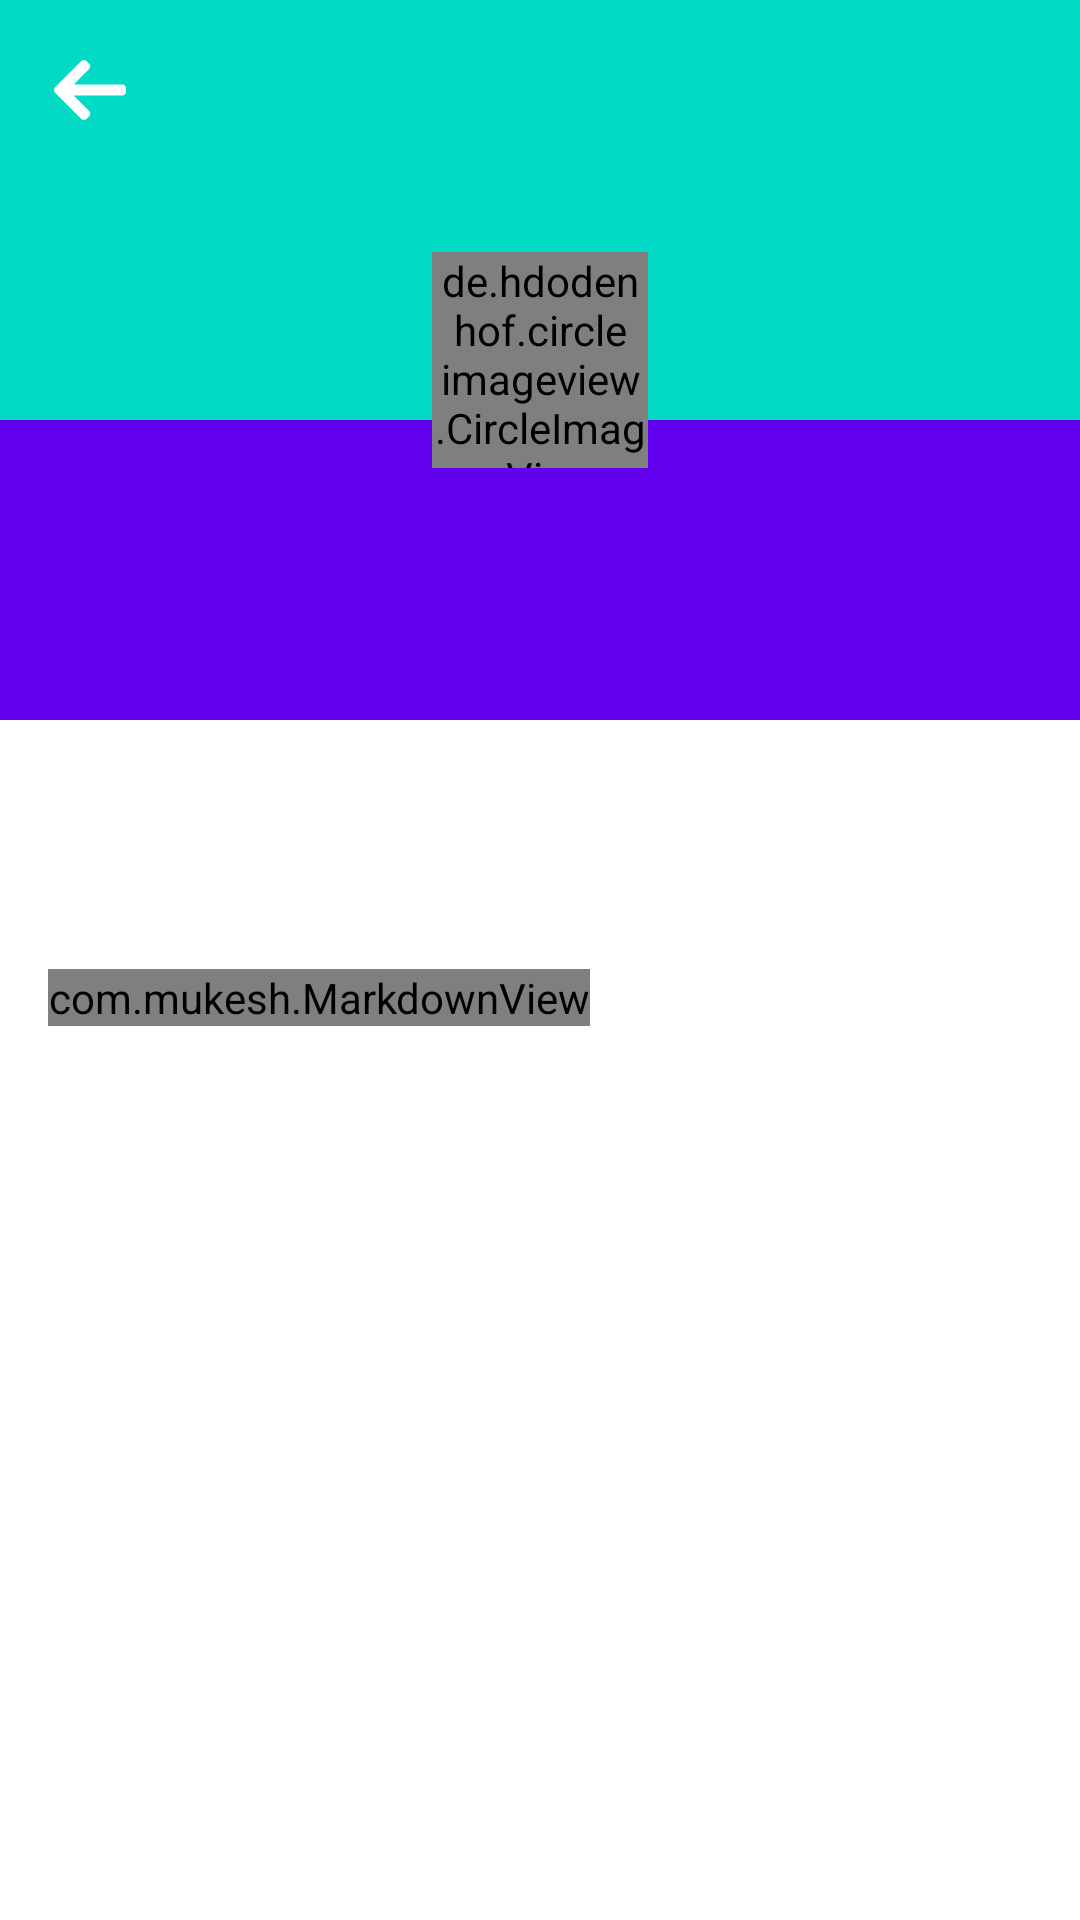

Where to tap for icons on this 1080px x 1920px app screen, as (x=x, y=y):
left arrow: (x=90, y=90)
